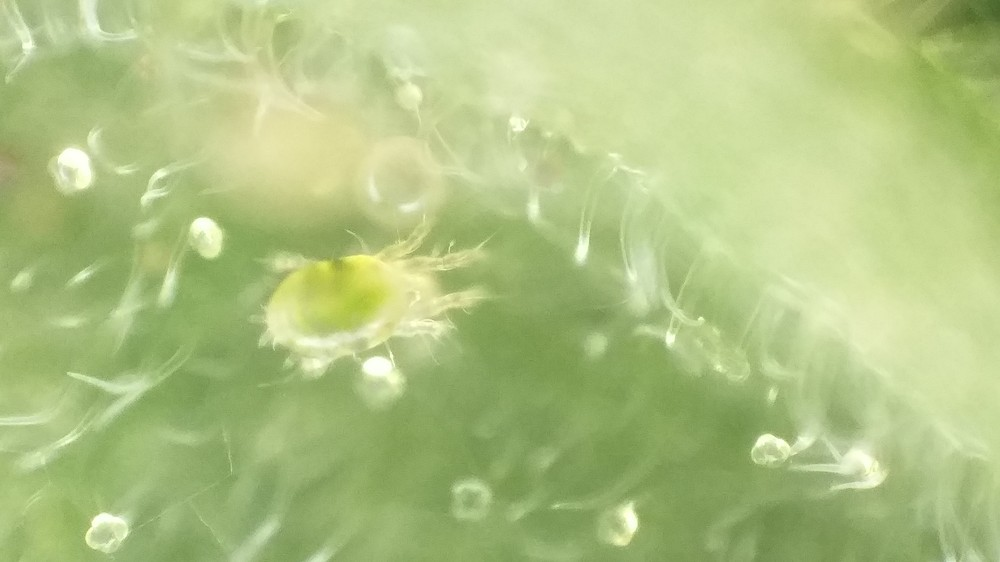Aracnido Rojo: (246, 227, 501, 376)
